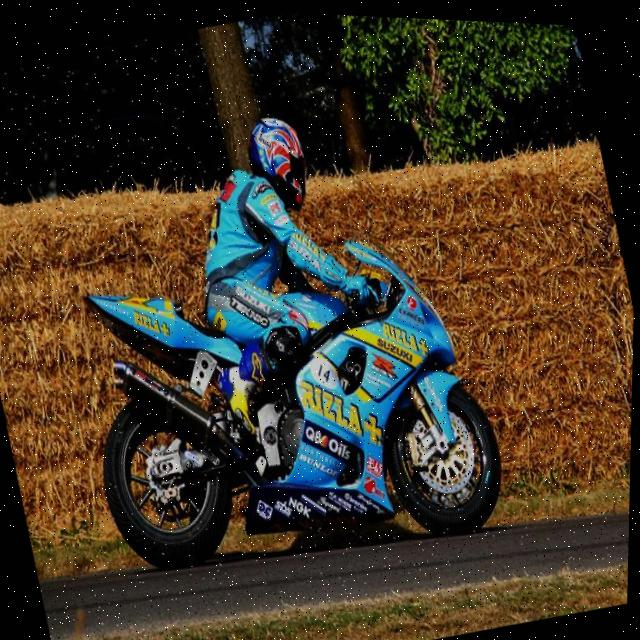motorcycle: (54, 188, 525, 616)
